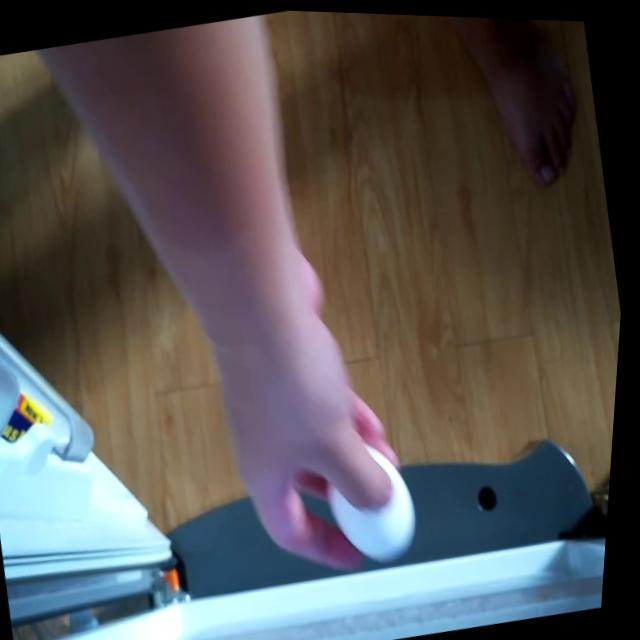egg: (326, 436, 432, 562)
